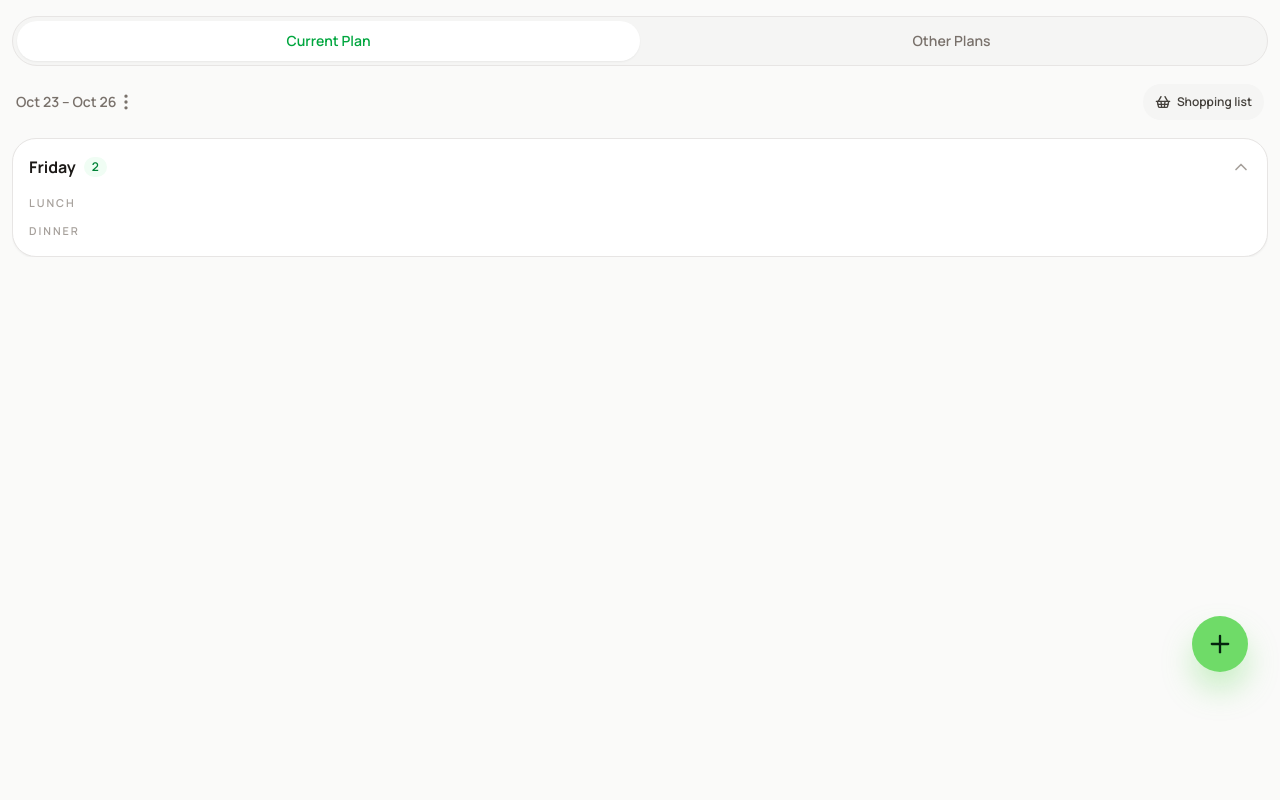
Test: PlanTabPage reminders export bridge and errors › counts repeated meals while fetching each recipe only once
The width and height of the screenshot is (1280, 800).
Click the button "Shopping list".
click(1203, 102)  # box [1143, 84, 1264, 120]
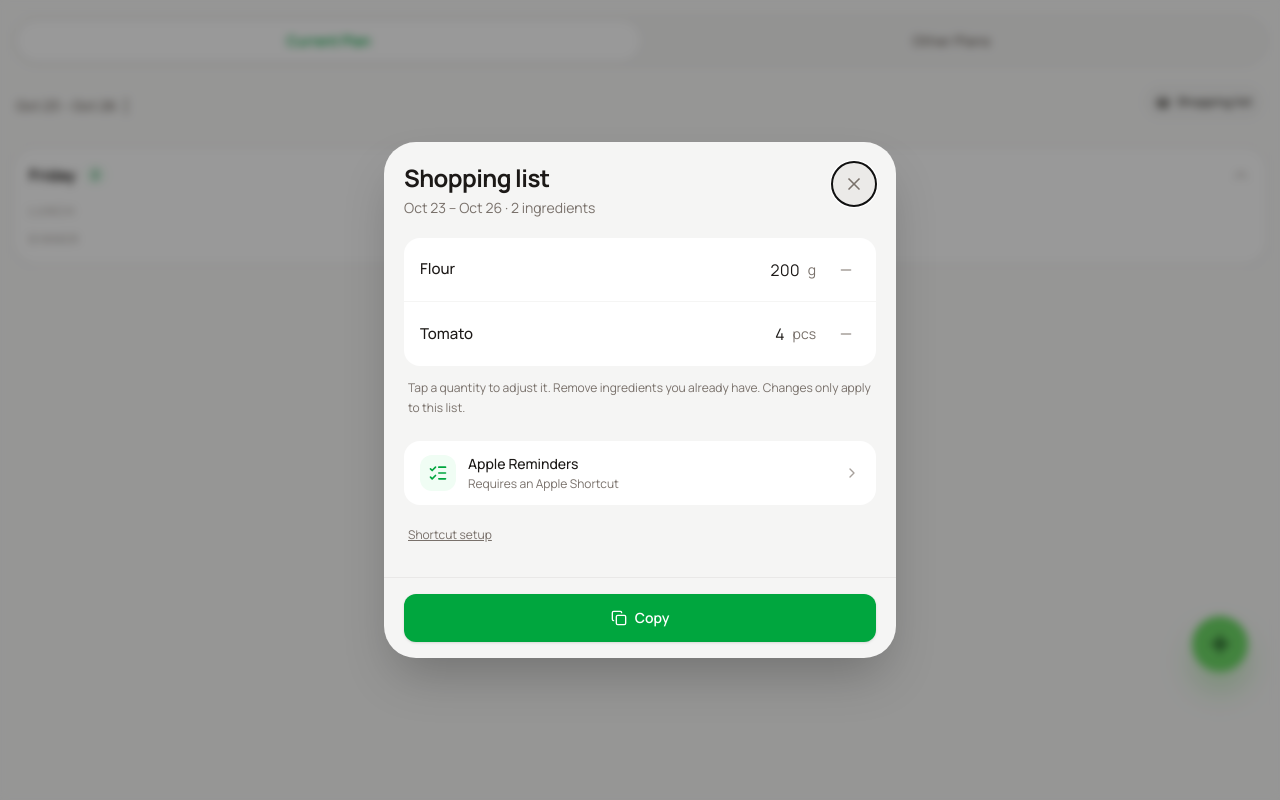
Now the field named "Quantity for Tomato" holds "4", box [725, 312, 789, 356]
Now the field named "Quantity for Flour" holds "200", box [740, 248, 804, 292]
